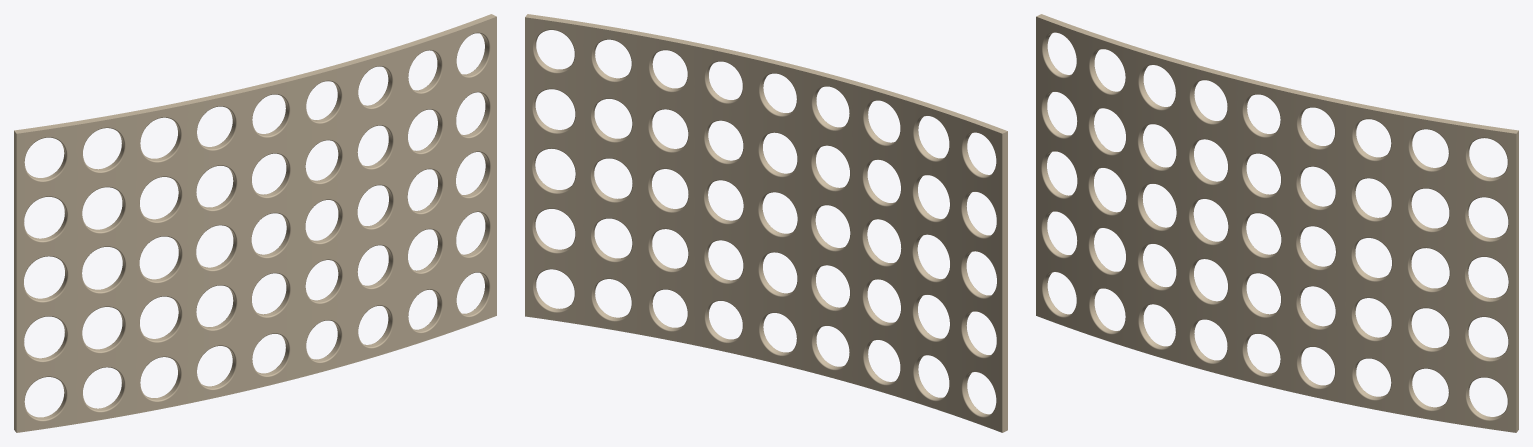
The picture shows the model from 3 angles, left to right: view 1: azimuth 30°, elevation 25°; view 2: azimuth 150°, elevation 25°; view 3: azimuth 330°, elevation 25°; orthographic projection.
Visible parts, largest first — view 1: VEIL | continuous perforated shell; view 2: VEIL | continuous perforated shell; view 3: VEIL | continuous perforated shell.
Boxes of the visible parts, x1,y1,x2,y2 form: VEIL | continuous perforated shell: (14,14,496,432); VEIL | continuous perforated shell: (525,14,1007,432); VEIL | continuous perforated shell: (1036,14,1518,432).
Bounding box in the file's own units: 0.5377 × 0.32 × 0.0361.
